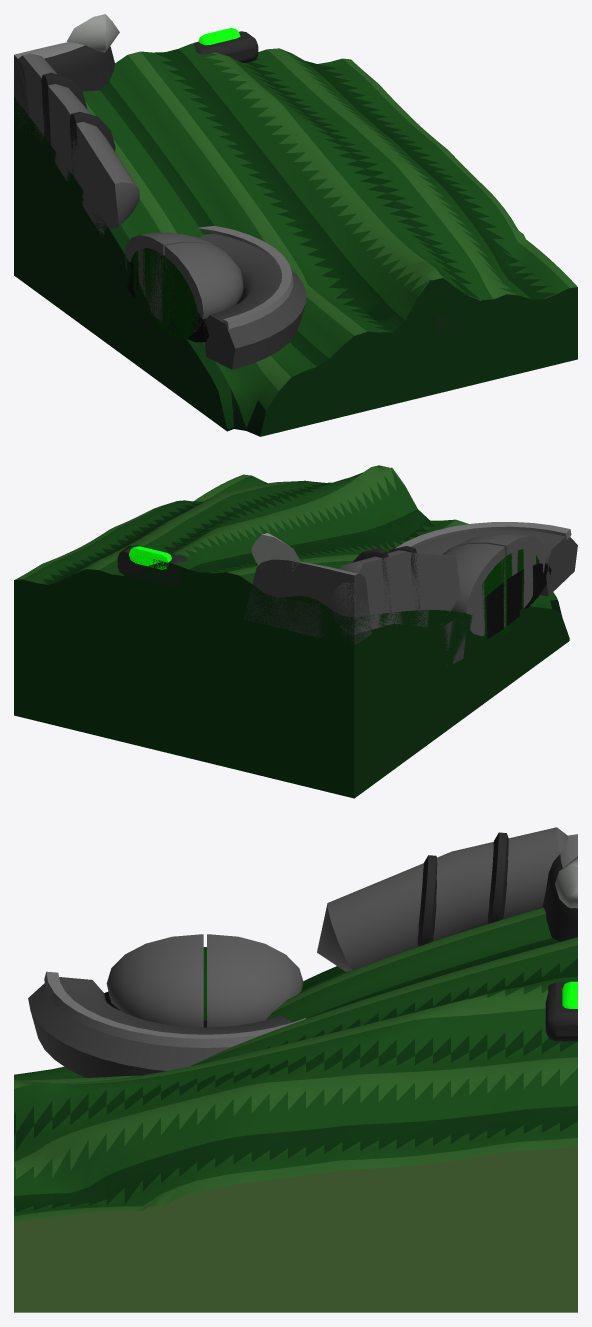
The model's file is green_shell_eye_243.glb.
3 renders of one model, top to bottom at view 1: azimuth 30°, elevation 25°; view 2: azimuth 150°, elevation 25°; view 3: azimuth 270°, elevation 25°, orthographic. The views are drawn at different scales.
Parts seen in each view (by area): view 1: carapace, stalk, eye_ring, lid-1, eye, housing, lid1, eye_ring_hi, strut-6, lamp_frame14, stalk_ring-4, socket (+1 smaller); view 2: carapace, stalk, housing, eye_ring, lid1, socket, lid-1, eye_ring_hi, eye, lamp_frame14, strut-6, lamp14; view 3: carapace, stalk, eye_ring, lid-1, lid1, eye_ring_hi, housing, lamp_frame14, stalk_ring-4, stalk_ring-8, strut-6.
Boxes of the visible parts, left/top/right/bottom form: carapace: left=14, top=43, right=577, bottom=436; stalk: left=14, top=53, right=139, bottom=232; eye_ring: left=100, top=233, right=306, bottom=369; lid-1: left=164, top=242, right=243, bottom=333; eye: left=131, top=248, right=197, bottom=338; housing: left=14, top=42, right=114, bottom=134; lid1: left=124, top=232, right=222, bottom=322; eye_ring_hi: left=99, top=226, right=293, bottom=328; strut-6: left=67, top=14, right=119, bottom=52; lamp_frame14: left=193, top=31, right=258, bottom=62; stalk_ring-4: left=41, top=72, right=87, bottom=144; socket: left=126, top=262, right=245, bottom=342; carapace: left=14, top=465, right=569, bottom=798; stalk: left=330, top=550, right=460, bottom=634; housing: left=244, top=559, right=371, bottom=645; eye_ring: left=414, top=529, right=577, bottom=666; lid1: left=442, top=543, right=505, bottom=636; socket: left=460, top=563, right=551, bottom=638; lid-1: left=447, top=533, right=545, bottom=608; eye_ring_hi: left=395, top=522, right=571, bottom=624; eye: left=478, top=549, right=539, bottom=640; lamp_frame14: left=117, top=545, right=187, bottom=586; strut-6: left=251, top=533, right=300, bottom=570; lamp14: left=129, top=546, right=171, bottom=569; carapace: left=14, top=907, right=577, bottom=1312; stalk: left=317, top=827, right=567, bottom=971; eye_ring: left=28, top=977, right=292, bottom=1077; lid-1: left=106, top=934, right=203, bottom=1027; lid1: left=207, top=934, right=303, bottom=1027; eye_ring_hi: left=44, top=971, right=305, bottom=1047; housing: left=542, top=834, right=577, bottom=941; lamp_frame14: left=545, top=982, right=577, bottom=1041; stalk_ring-4: left=487, top=832, right=508, bottom=923; stalk_ring-8: left=417, top=855, right=437, bottom=946; strut-6: left=555, top=856, right=577, bottom=908.
Size of the model in its own units: 24 by 16.28 by 28.
